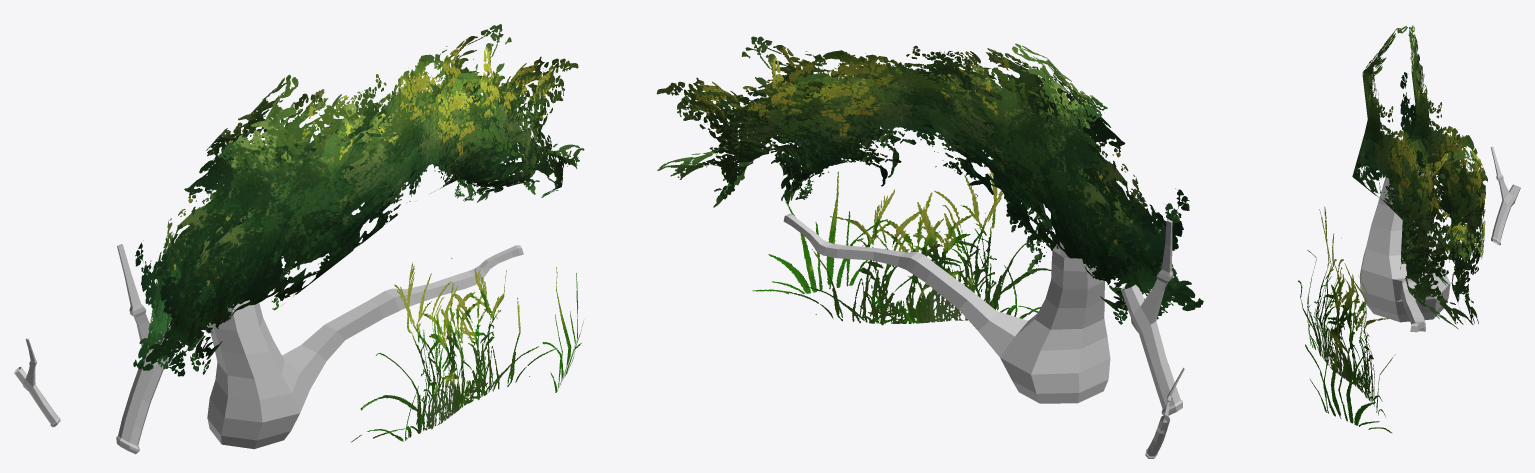
File: shu7.fbx
The picture shows the model from 3 angles, left to right: view 1: azimuth 30°, elevation 25°; view 2: azimuth 150°, elevation 25°; view 3: azimuth 270°, elevation 25°; orthographic projection. The views are drawn at different scales.
Visible parts, largest first — view 1: shu7; view 2: shu7; view 3: shu7.
Boxes of the visible parts, x1=… form: shu7: x1=14, y1=24, x2=584, y2=454; shu7: x1=656, y1=36, x2=1203, y2=458; shu7: x1=1298, y1=25, x2=1520, y2=433.
Bounding box in the file's own units: 694 × 439 × 270.
